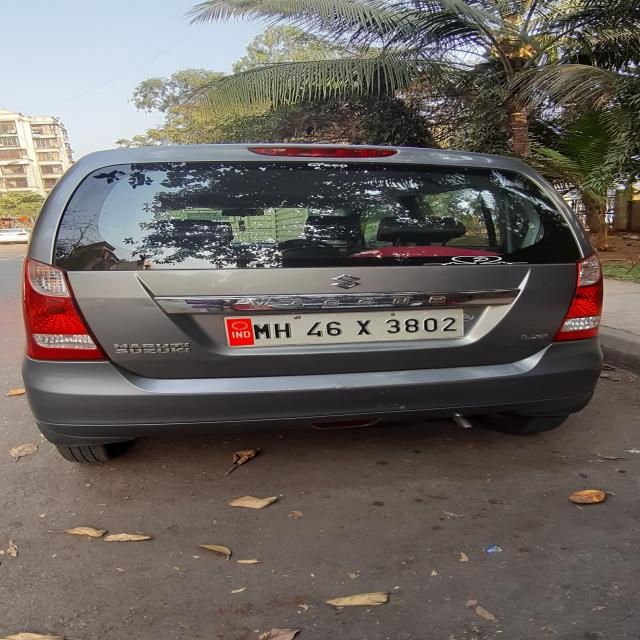Number-Plate: (226, 307, 466, 343)
